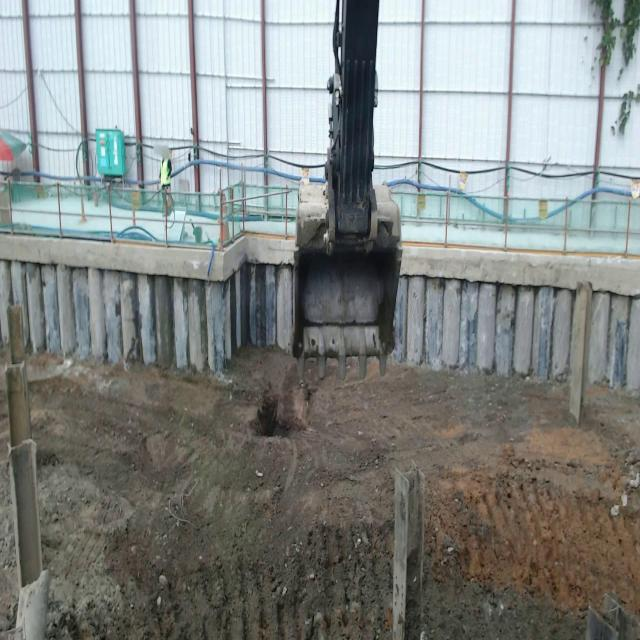red-sand: (31, 348, 640, 639)
